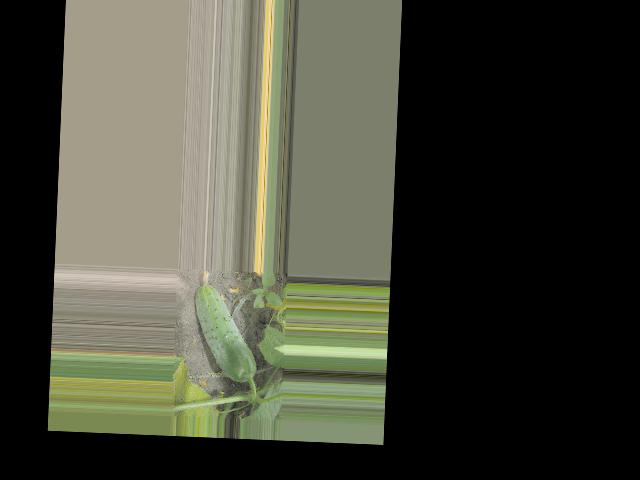cucumber: (191, 269, 260, 382)
